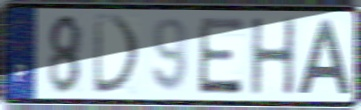8: (46, 11, 85, 96)
9: (150, 16, 190, 95)
A: (295, 17, 353, 97)
D: (92, 13, 144, 97)
E: (196, 16, 246, 97)
H: (249, 15, 298, 98)
